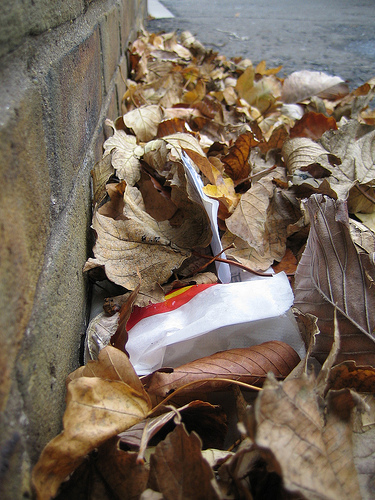litter: (120, 274, 307, 372), (176, 148, 229, 270)
